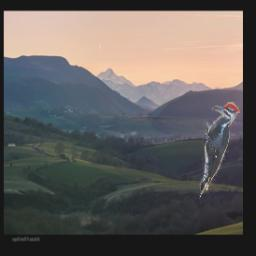Woodpecker: (199, 102, 240, 199)
